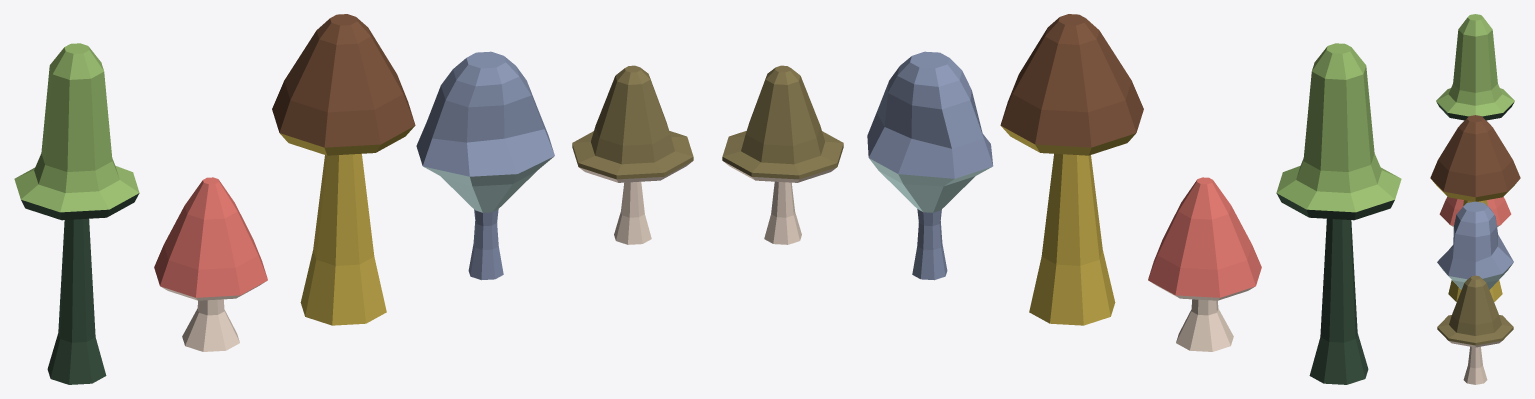
Rendered from Jam.Mushrooms.Final.fbx.
The picture shows the model from 3 angles, left to right: view 1: azimuth 30°, elevation 25°; view 2: azimuth 150°, elevation 25°; view 3: azimuth 270°, elevation 25°; orthographic projection. The views are drawn at different scales.
Parts seen in each view (by area): view 1: mushroom.3, mushroom.1, mushroom.4, mushroom.2, mushroom.5; view 2: mushroom.3, mushroom.1, mushroom.4, mushroom.2, mushroom.5; view 3: mushroom.3, mushroom.1, mushroom.4, mushroom.5, mushroom.2.
Boxes of the visible parts, x1,y1,x2,y2 form: mushroom.3: [272, 14, 415, 325]; mushroom.1: [14, 43, 139, 384]; mushroom.4: [416, 51, 554, 280]; mushroom.2: [154, 177, 267, 351]; mushroom.5: [572, 65, 693, 244]; mushroom.3: [1000, 14, 1143, 325]; mushroom.1: [1276, 43, 1401, 384]; mushroom.4: [867, 51, 993, 280]; mushroom.2: [1148, 177, 1261, 351]; mushroom.5: [722, 65, 843, 244]; mushroom.3: [1430, 115, 1520, 301]; mushroom.1: [1436, 14, 1514, 120]; mushroom.4: [1437, 201, 1513, 289]; mushroom.5: [1437, 275, 1513, 384]; mushroom.2: [1439, 197, 1511, 226].
Bounding box in the file's own units: 1587 × 737 × 306.
